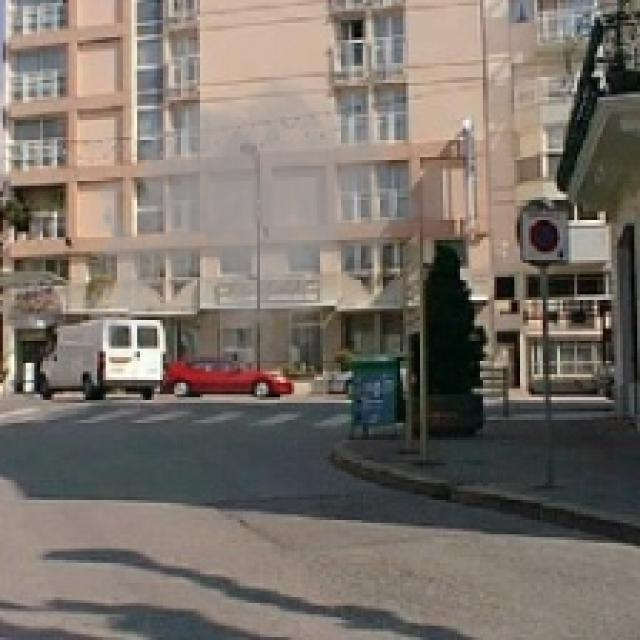Smoke: (77, 54, 423, 406)
